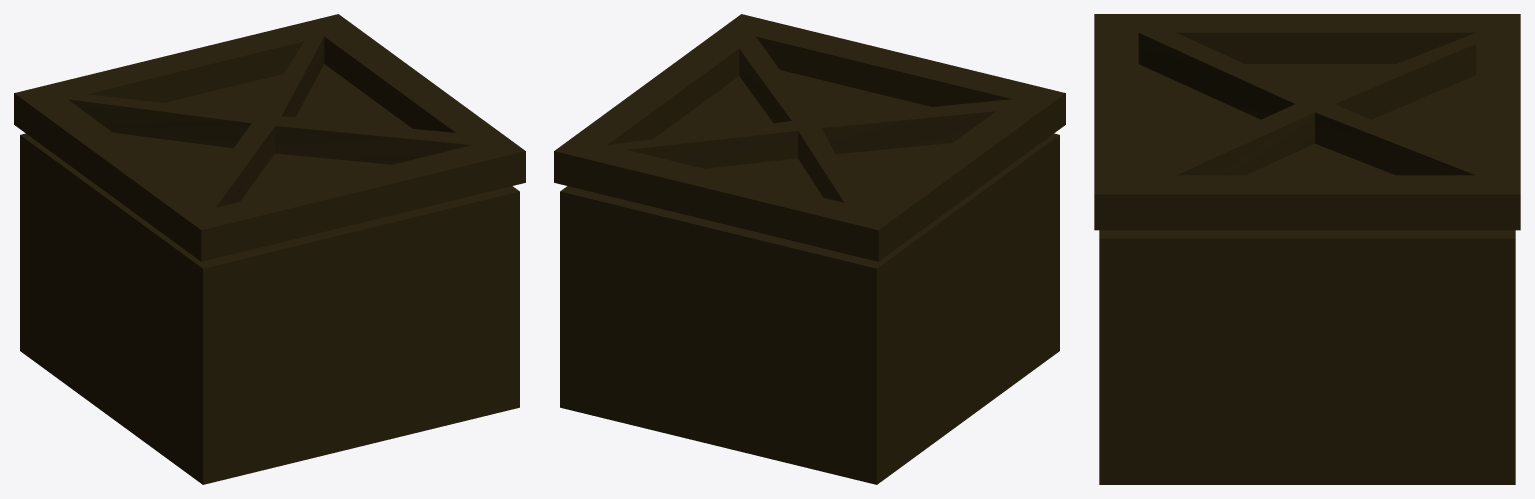
File: crate.glb
3 views of the same model, side by side, from view 1: azimuth 30°, elevation 25°; view 2: azimuth 150°, elevation 25°; view 3: azimuth 270°, elevation 25° (orthographic). The views are drawn at different scales.
Parts seen in each view (by area): view 1: Cube; view 2: Cube; view 3: Cube.
Boxes of the visible parts, bbox=[...] form: Cube: bbox=[14, 14, 525, 484]; Cube: bbox=[554, 14, 1065, 484]; Cube: bbox=[1094, 14, 1520, 484].
Bounding box in the file's own units: 2.05 × 1.55 × 2.05.
